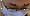with_mask: (1, 2, 30, 16)
